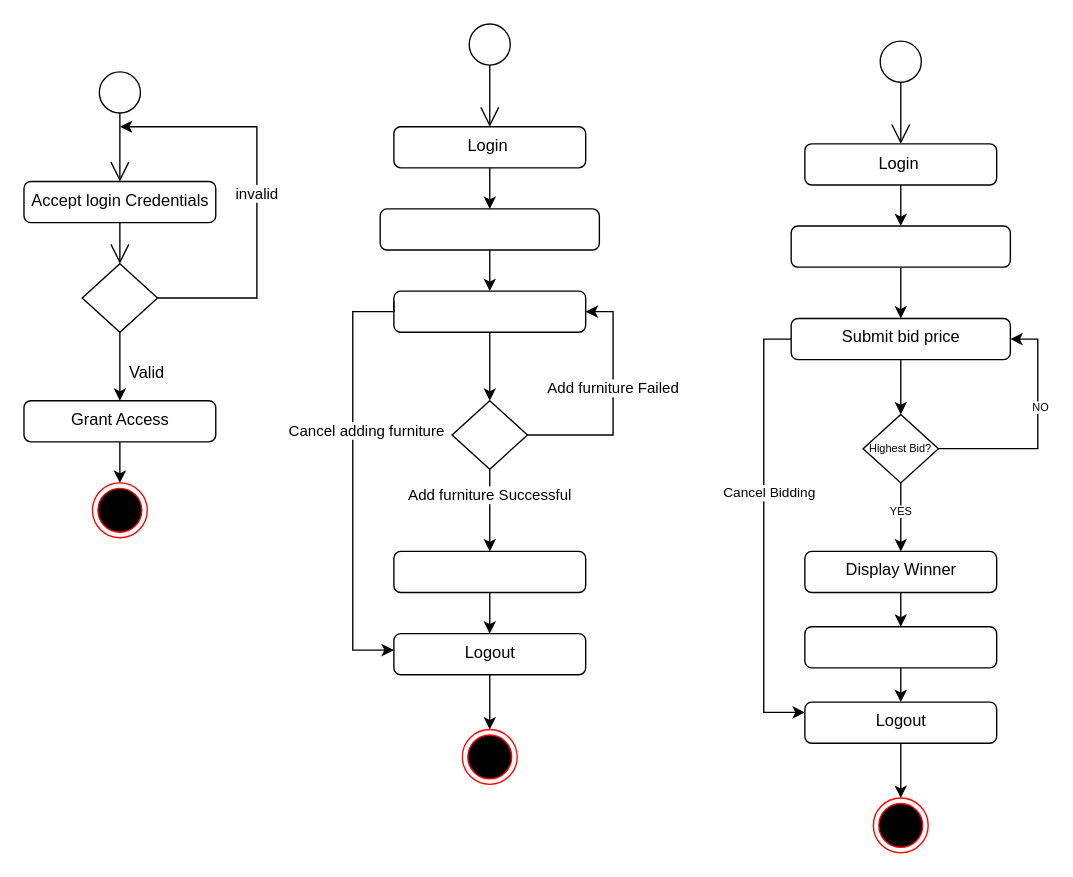
Some shapes in this 1073 by 877 pixel diagram are drawn without their labels. The shapes that lost their labels are listed below. From the top down, each one's centre as x and y in pixels, then its label:
At pixel 489 229: "Upload Product(Furniture)".
At pixel 900 246: "select Product(Furniture)".
At pixel 489 311: "Save to Table".
At pixel 489 571: "Display all furnitures".
At pixel 900 646: "Proceed to Checkout".
